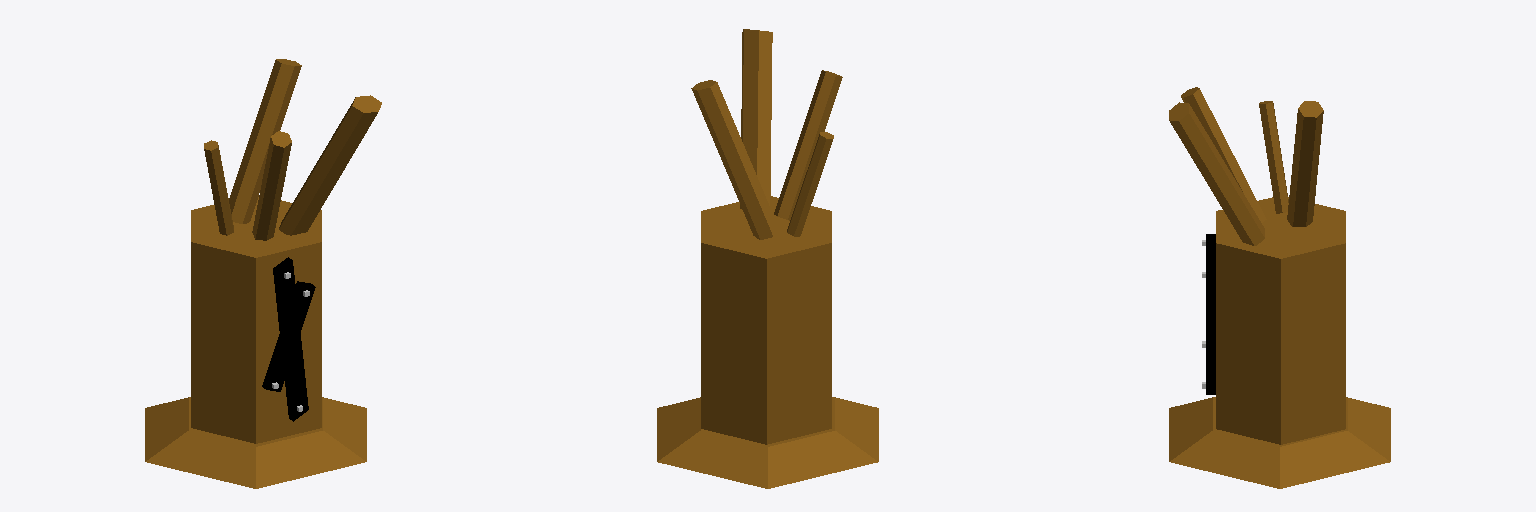
File: Tree.obj
The picture shows the model from 3 angles: view 1: azimuth 30°, elevation 25°; view 2: azimuth 150°, elevation 25°; view 3: azimuth 270°, elevation 25°; orthographic projection.
Parts seen in each view (by area): view 1: Cylinder002, Cone001, Cylinder005, Cylinder003, Box002, Cylinder004, Box001, Cylinder006; view 2: Cylinder002, Cone001, Cylinder003, Cylinder005, Cylinder004, Cylinder006; view 3: Cylinder002, Cone001, Cylinder005, Cylinder003, Cylinder004, Cylinder006, Box002.
Boxes of the visible parts, x1,y1,x2,y2 form: Cylinder002: [191, 197, 321, 443]; Cone001: [145, 397, 366, 488]; Cylinder005: [279, 95, 381, 235]; Cylinder003: [229, 59, 301, 223]; Box002: [273, 257, 308, 421]; Cylinder004: [252, 131, 291, 240]; Box001: [262, 281, 315, 391]; Cylinder006: [204, 140, 233, 235]; Cylinder002: [701, 196, 831, 444]; Cone001: [657, 397, 878, 488]; Cylinder003: [691, 80, 779, 239]; Cylinder005: [740, 29, 772, 208]; Cylinder004: [774, 70, 842, 220]; Cylinder006: [787, 132, 833, 236]; Cylinder002: [1216, 197, 1345, 444]; Cone001: [1169, 397, 1390, 488]; Cylinder005: [1169, 102, 1264, 245]; Cylinder003: [1287, 101, 1323, 226]; Cylinder004: [1181, 87, 1266, 222]; Cylinder006: [1259, 101, 1288, 213]; Box002: [1206, 234, 1215, 394].
Bounding box in the file's own units: 3.63 × 5.6 × 3.15.